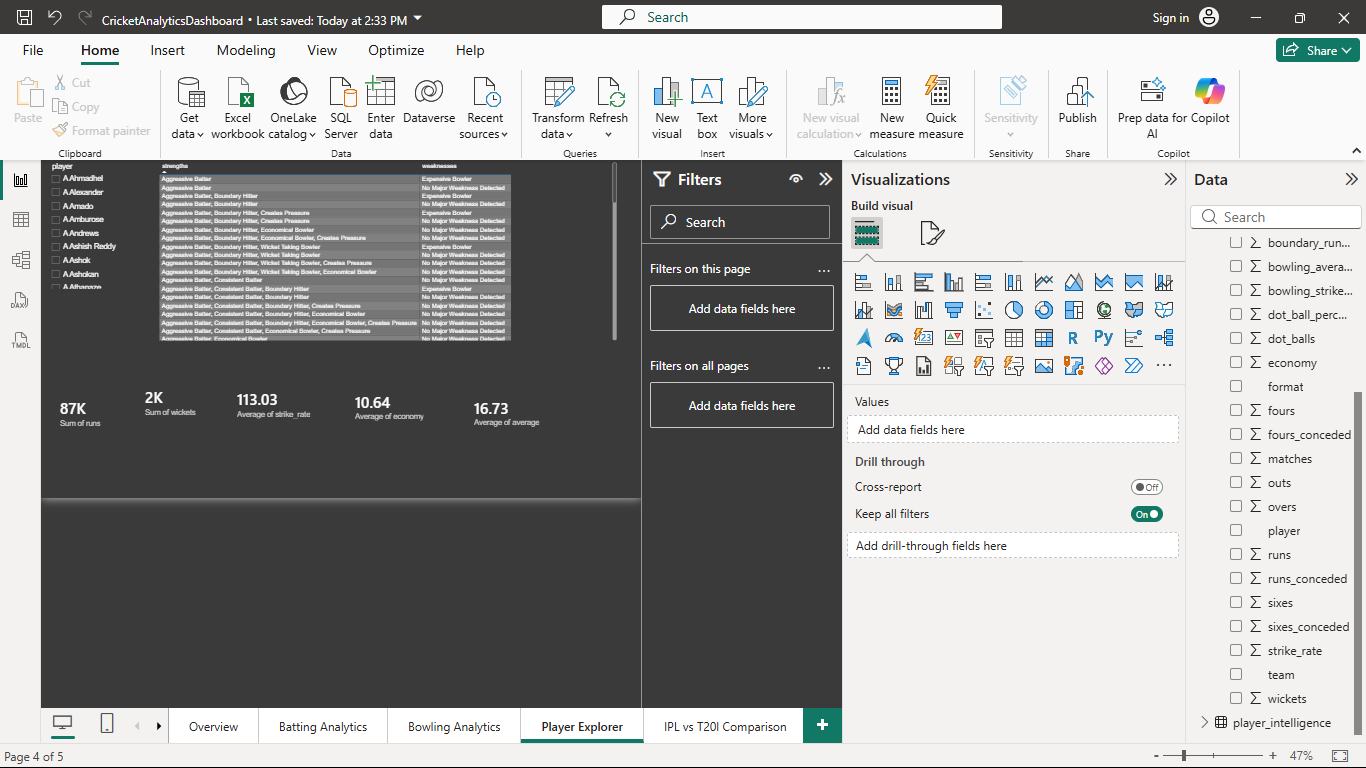

Layout of this report page (visuals, bound fields, positions):
{"tool":"powerbi","page":{"name":"Player Explorer","canvas":[1280,720],"ordinal":3},"visuals":[{"type":"slicer","fields":{"Values":["master_player_table.player"]},"box":[10,0,280,280],"z":0},{"type":"cardVisual","fields":{"Data":["Sum(master_player_table.runs)"]},"box":[10.7,454.4,181.3,166.4],"z":1000},{"type":"cardVisual","fields":{"Data":["Avg(master_player_table.average)"]},"box":[893.9,477.9,206.9,119.5],"z":2000},{"type":"cardVisual","fields":{"Data":["Avg(master_player_table.strike_rate)"]},"box":[388.3,454.4,234.7,128],"z":3000},{"type":"cardVisual","fields":{"Data":["Sum(master_player_table.wickets)"]},"box":[192,450.1,196.3,128],"z":4000},{"type":"cardVisual","fields":{"Data":["Avg(master_player_table.economy)"]},"box":[640,450.1,224,147.2],"z":5000},{"type":"tableEx","fields":{"Values":["player_intelligence.strengths","player_intelligence.weaknesses"]},"box":[247.5,0,985.6,390.4],"z":6000}]}

Visuals, with their boxes on the page's 1280x720 design canvas (x1, y1, x2, y2). These are canvas units, not pixel positions in the 1366x768 screenshot, which may show the page scaled, cropped or inside an application window:
slicer - master_player_table.player: rect(10, 0, 290, 280)
cardVisual - Sum(master_player_table.runs): rect(11, 454, 192, 621)
cardVisual - Avg(master_player_table.average): rect(894, 478, 1101, 597)
cardVisual - Avg(master_player_table.strike_rate): rect(388, 454, 623, 582)
cardVisual - Sum(master_player_table.wickets): rect(192, 450, 388, 578)
cardVisual - Avg(master_player_table.economy): rect(640, 450, 864, 597)
tableEx - player_intelligence.strengths x player_intelligence.weaknesses: rect(248, 0, 1233, 390)
